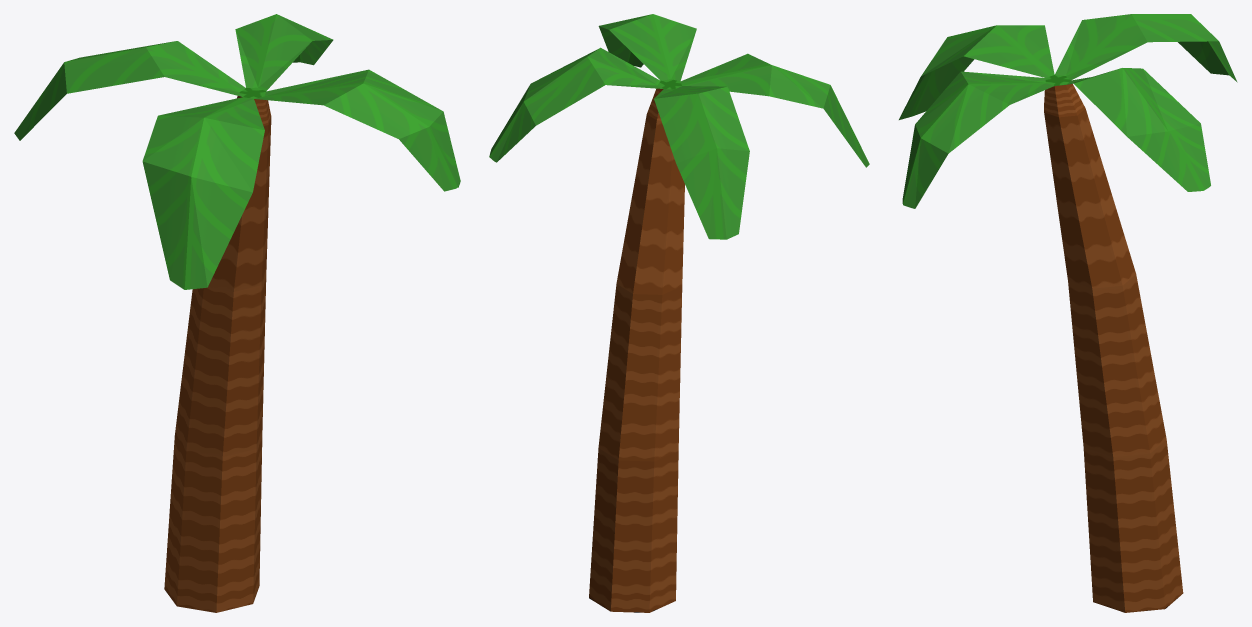
File: coqueiro.obj
3 views of the same model, side by side, from view 1: azimuth 30°, elevation 25°; view 2: azimuth 150°, elevation 25°; view 3: azimuth 270°, elevation 25° (orthographic). The views are drawn at different scales.
Parts seen in each view (by area): view 1: Circle; view 2: Circle; view 3: Circle.
Part boxes in pixels (x1,y1,x2,y2): Circle: (14, 14, 460, 612); Circle: (489, 14, 869, 612); Circle: (899, 14, 1237, 612).
Bounding box in the file's own units: 5.41 × 10.21 × 5.68.
Materials: 1 (1 with a texture image).
